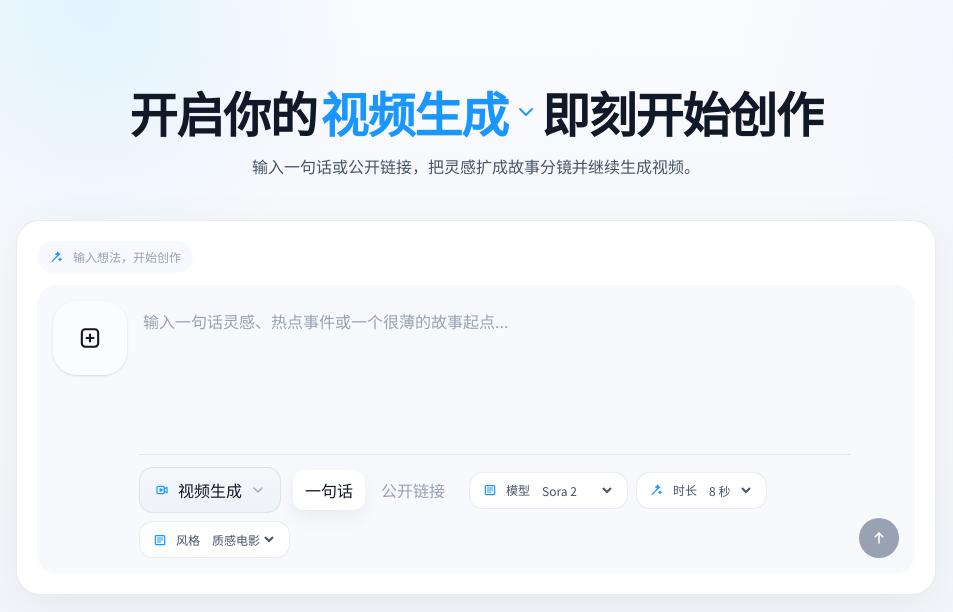
it: StudioPage › switches mode from the small hero arrow menu and syncs the input panel
The width and height of the screenshot is (953, 612).
Click the button with aria-label "顶部创作模式" at (429, 112), box 321,88 -> 538,136
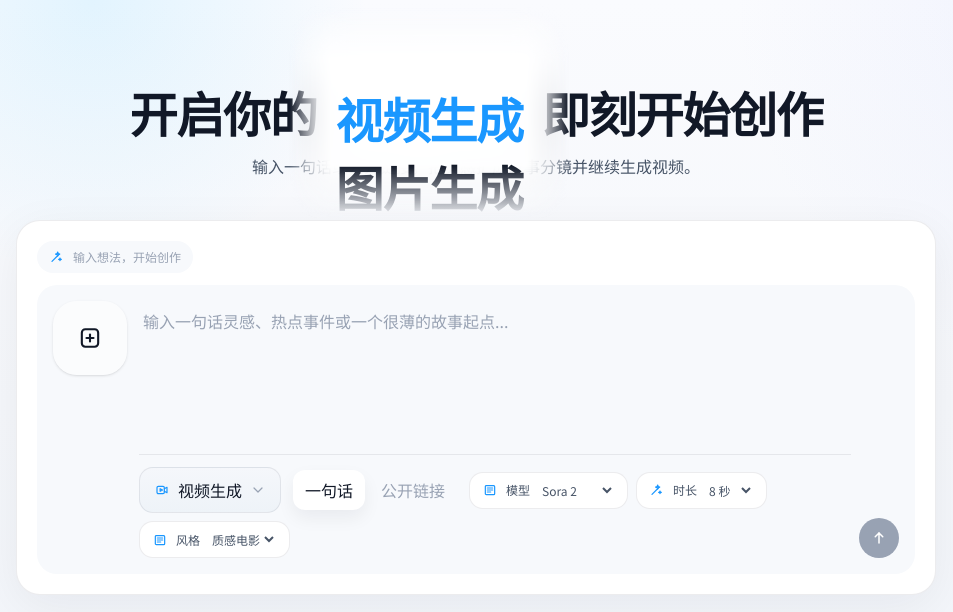
Click the menu item with aria-label "切换到图片生成" at (429, 186), box 336,162 -> 523,210
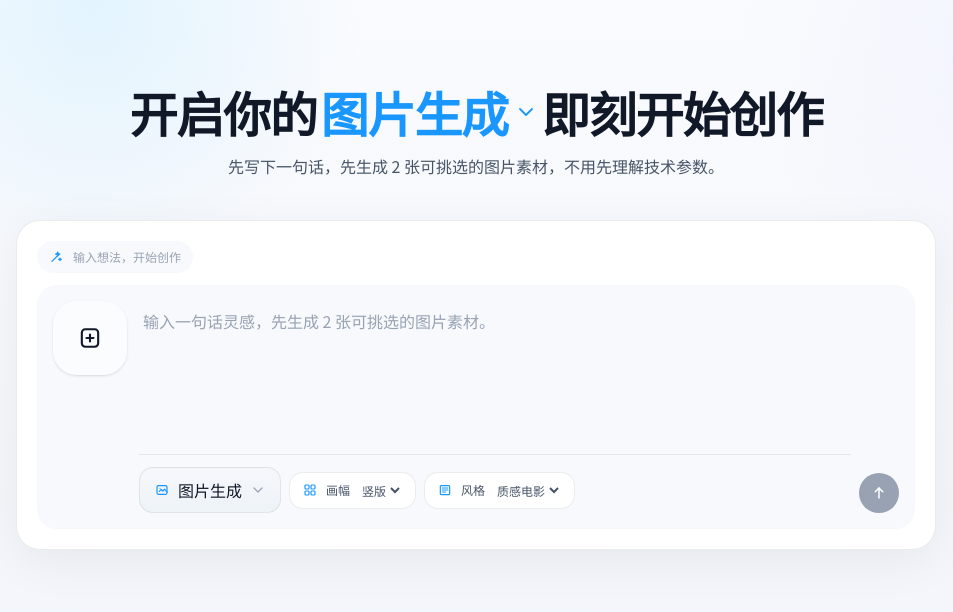
Now the button with aria-label "顶部创作模式" reads "图片生成", box 321,88 -> 538,136
Now the text "先写下一句话，先生成 2 张可挑选的图片素材，不用先理解技术参数。" is shown, box 228,154 -> 724,178
Now the dropdown named "图片画幅" is shown, box 358,480 -> 403,500
